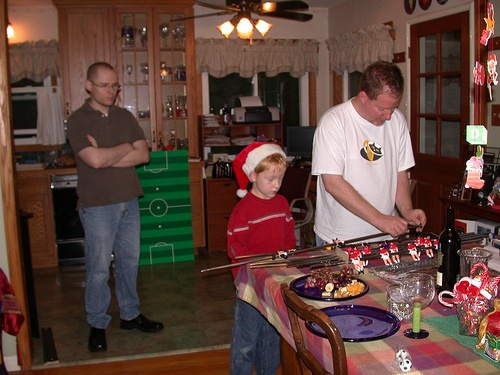head: (356, 62, 405, 128), (243, 140, 288, 203), (83, 59, 124, 109)
person: (64, 55, 159, 352), (311, 58, 426, 246), (227, 140, 293, 371)
